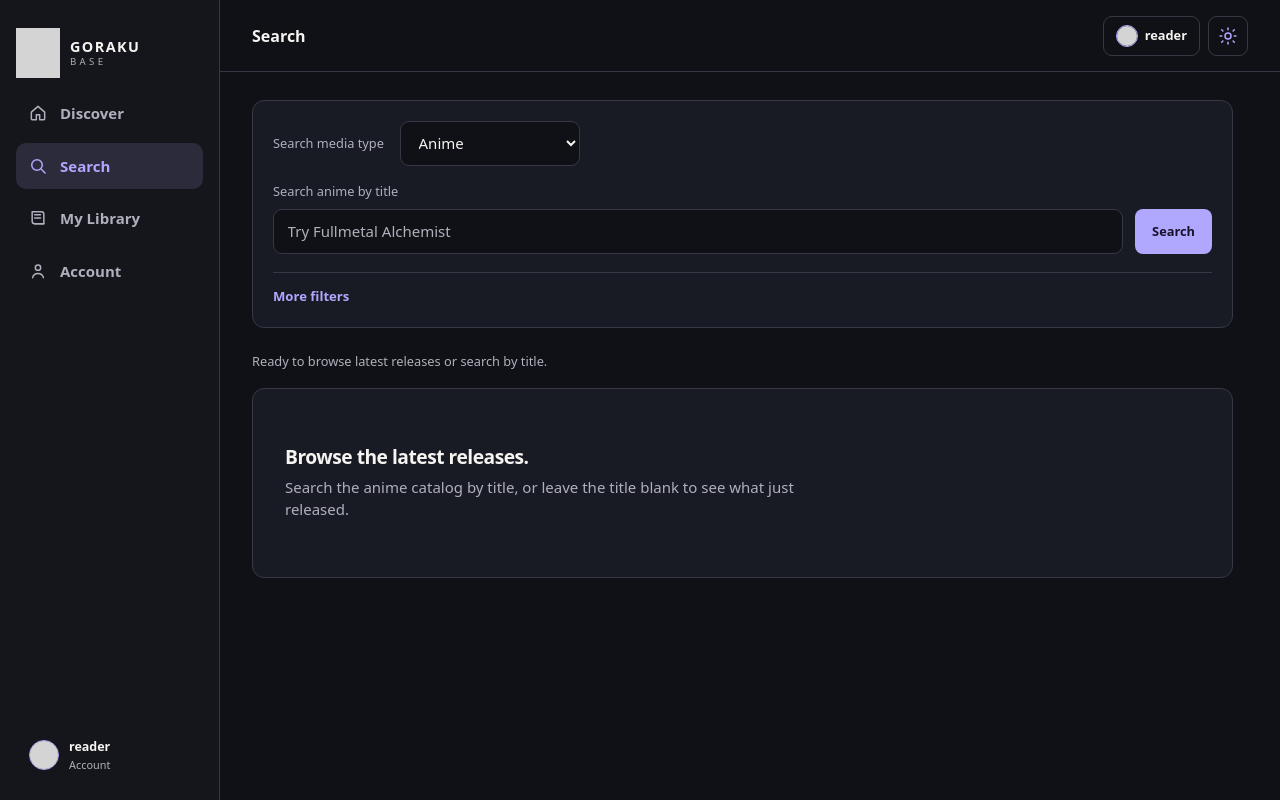
Test: authentication and library experience › offers existing Tags and Collections as direct save destinations
The width and height of the screenshot is (1280, 800).
Earlier steps of the test are not shown.
Step 1. Type "arrival" into the search field labelled "Search anime by title" → (698, 232), box [273,209,1123,254]
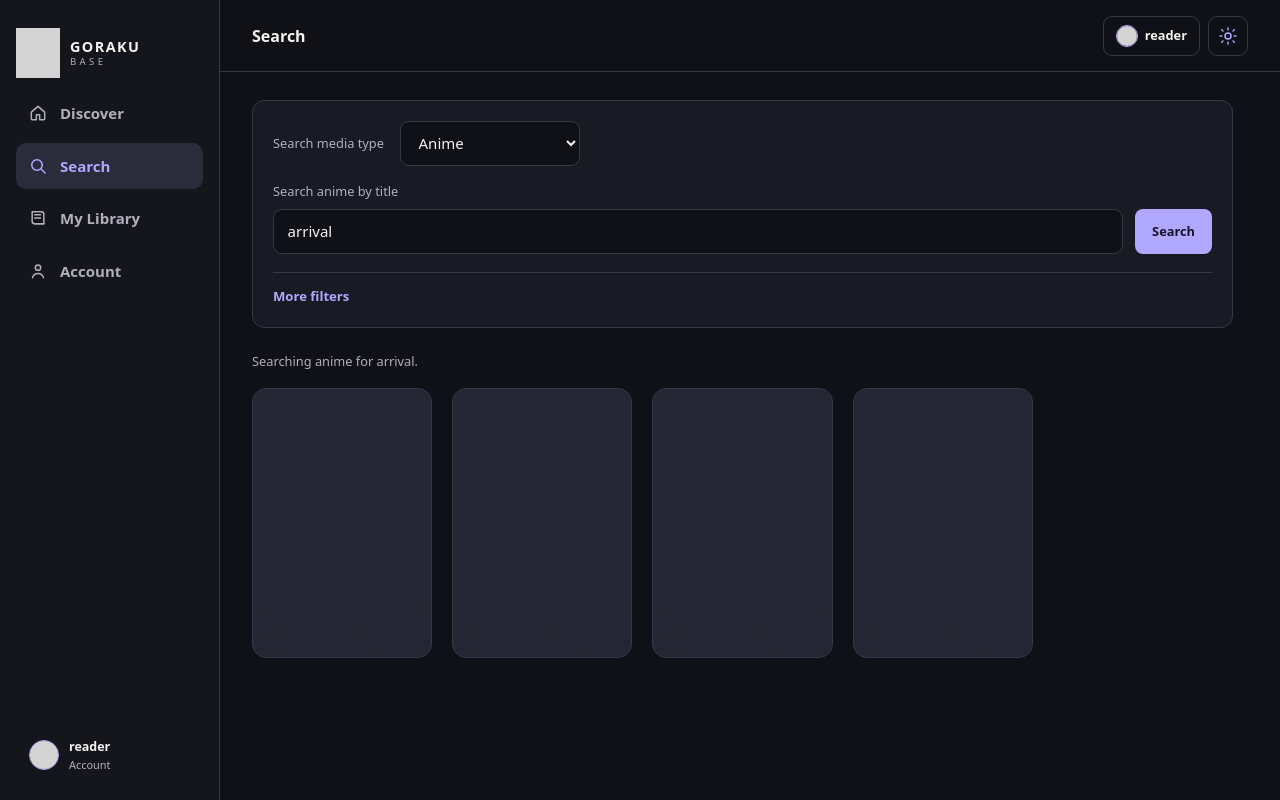
Step 2. Submit the form "Search anime by title", box [252,100,1233,328]
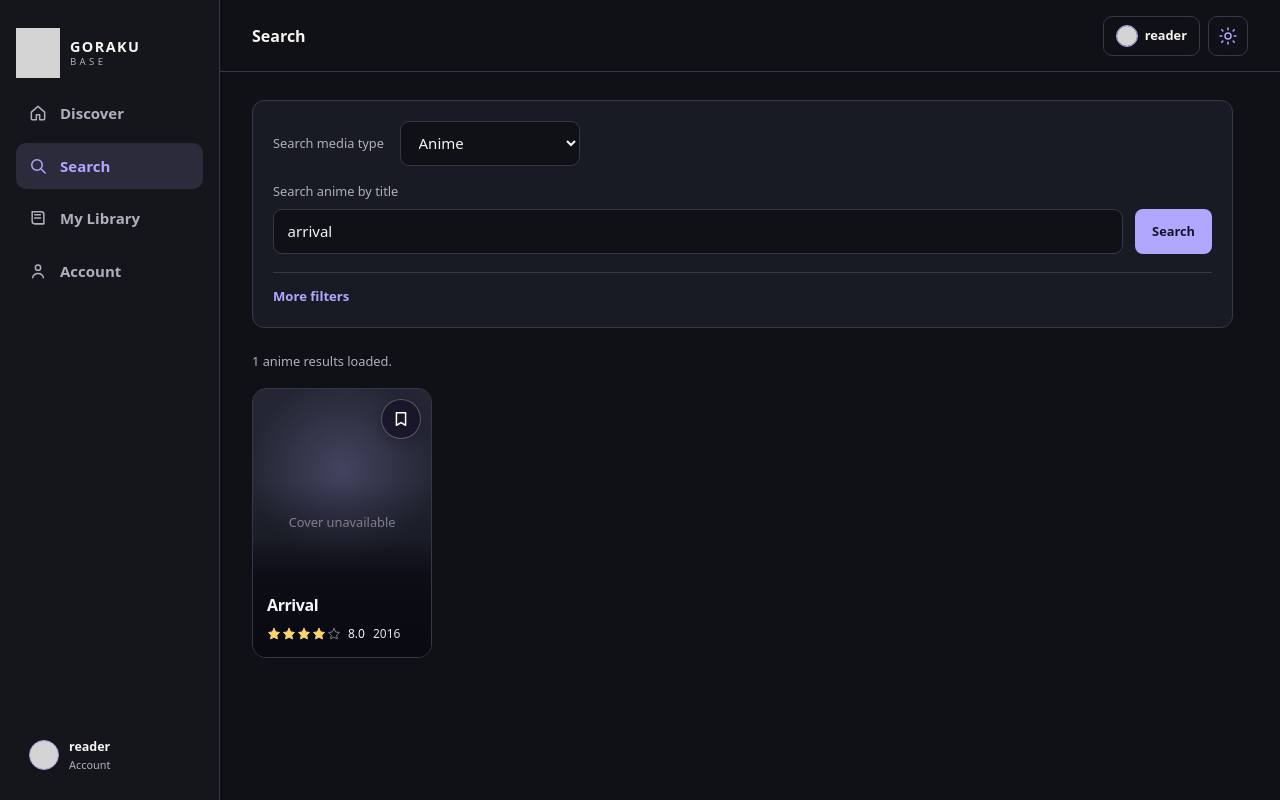
Result: the heading "Arrival" is shown at [267,594,318,616]
Step 3. Click the button named "Save to library" → (401, 419), box [381,399,421,439]
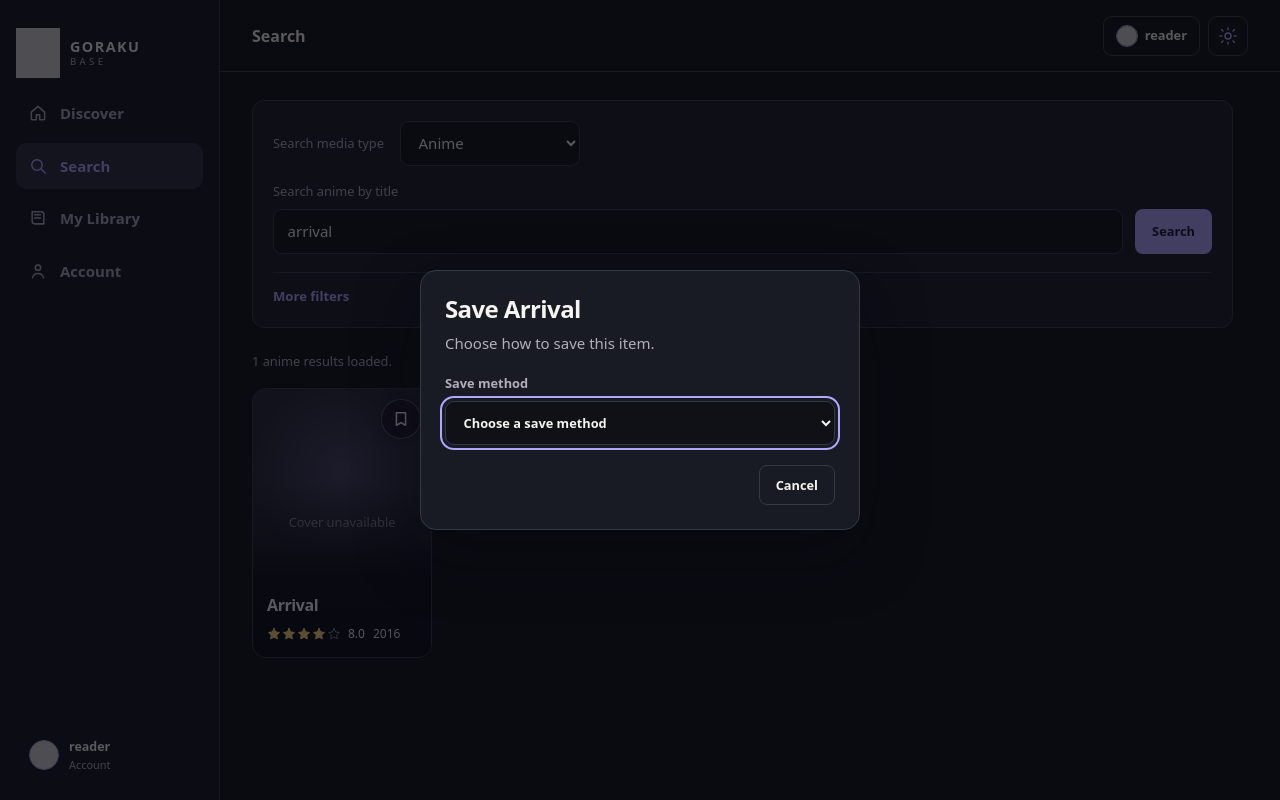
Step 4. Select "Save to Tags and Collection" in the dropdown labelled "Save method" → (640, 423), box [445,401,835,445]
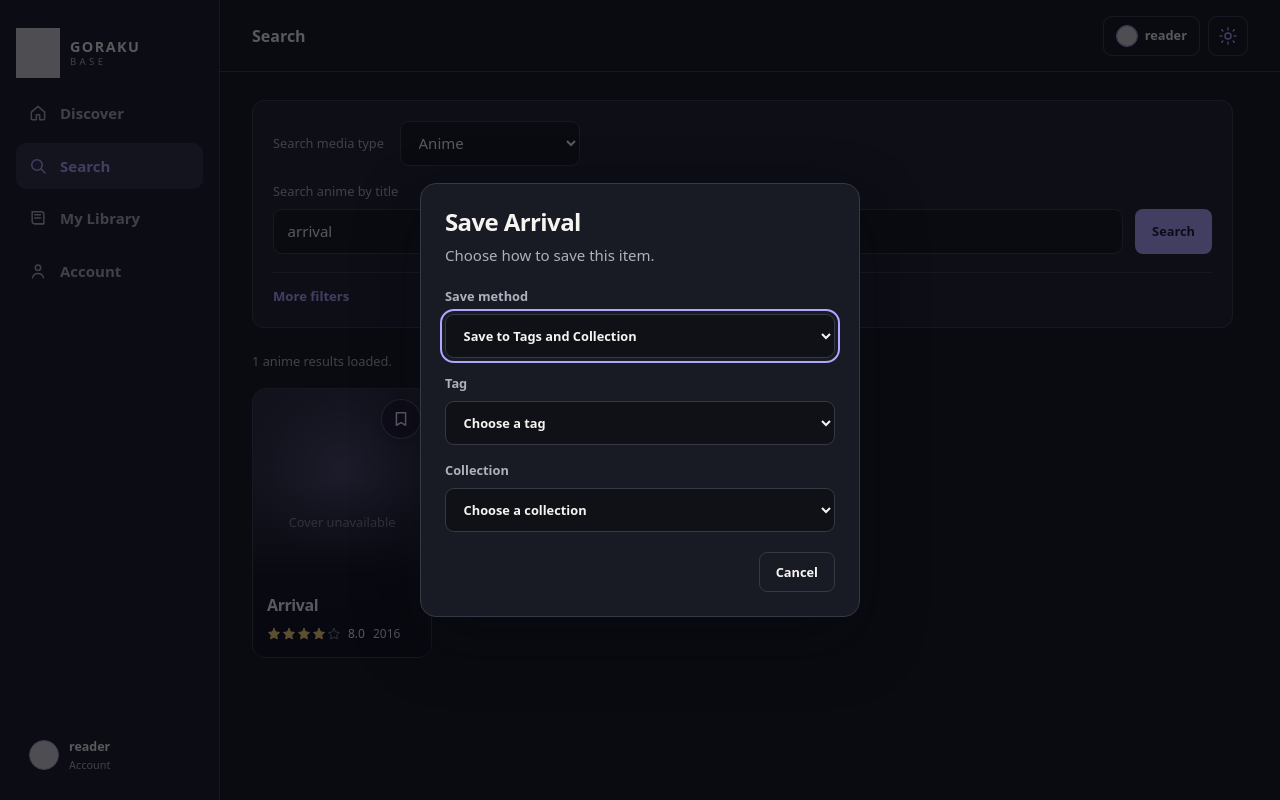
Step 5. Select "Favorites" in the dropdown labelled "Tag" → (640, 423), box [445,401,835,445]
Step 6. Select "Weekend queue" in the dropdown labelled "Collection" → (640, 510), box [445,488,835,532]
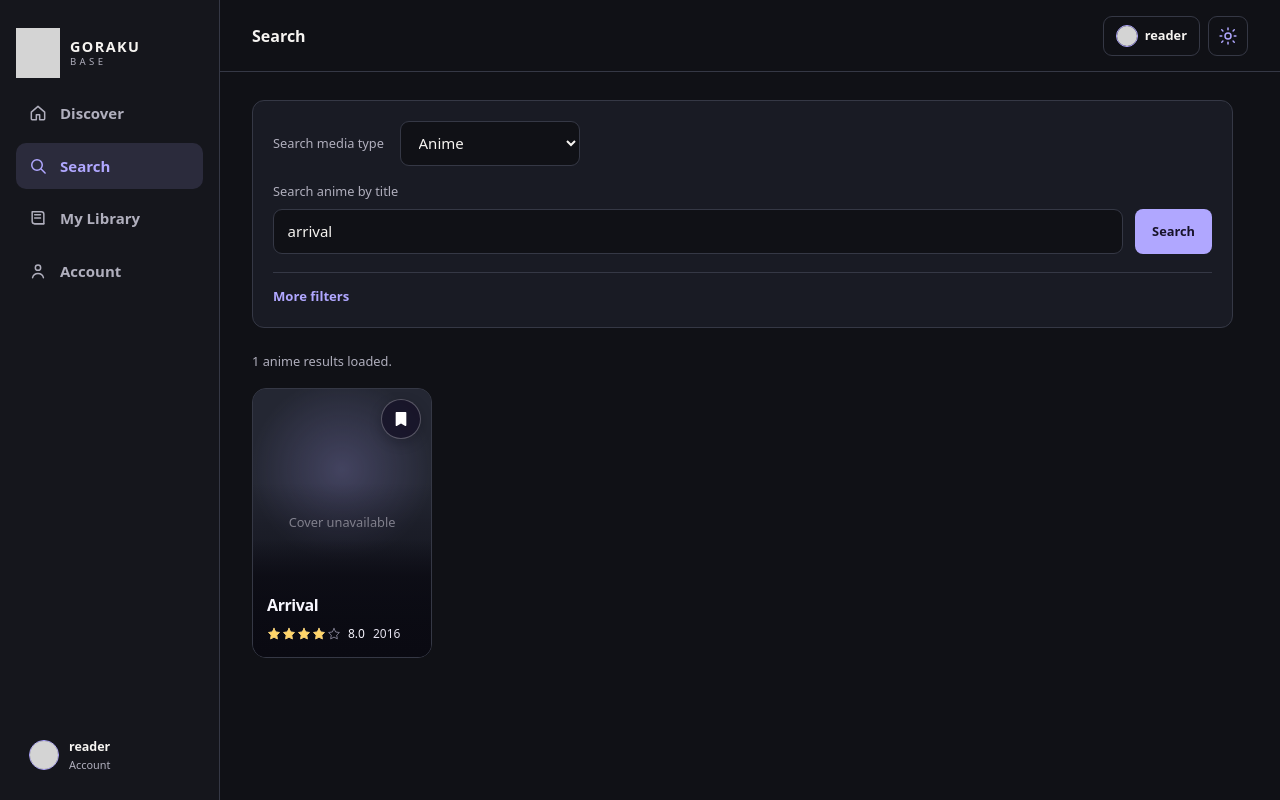
Result: the button named "Remove from library" is shown
Result: the heading "Save Arrival" is gone
Step 7. Click the button named "Remove from library" → (401, 419), box [381,399,421,439]
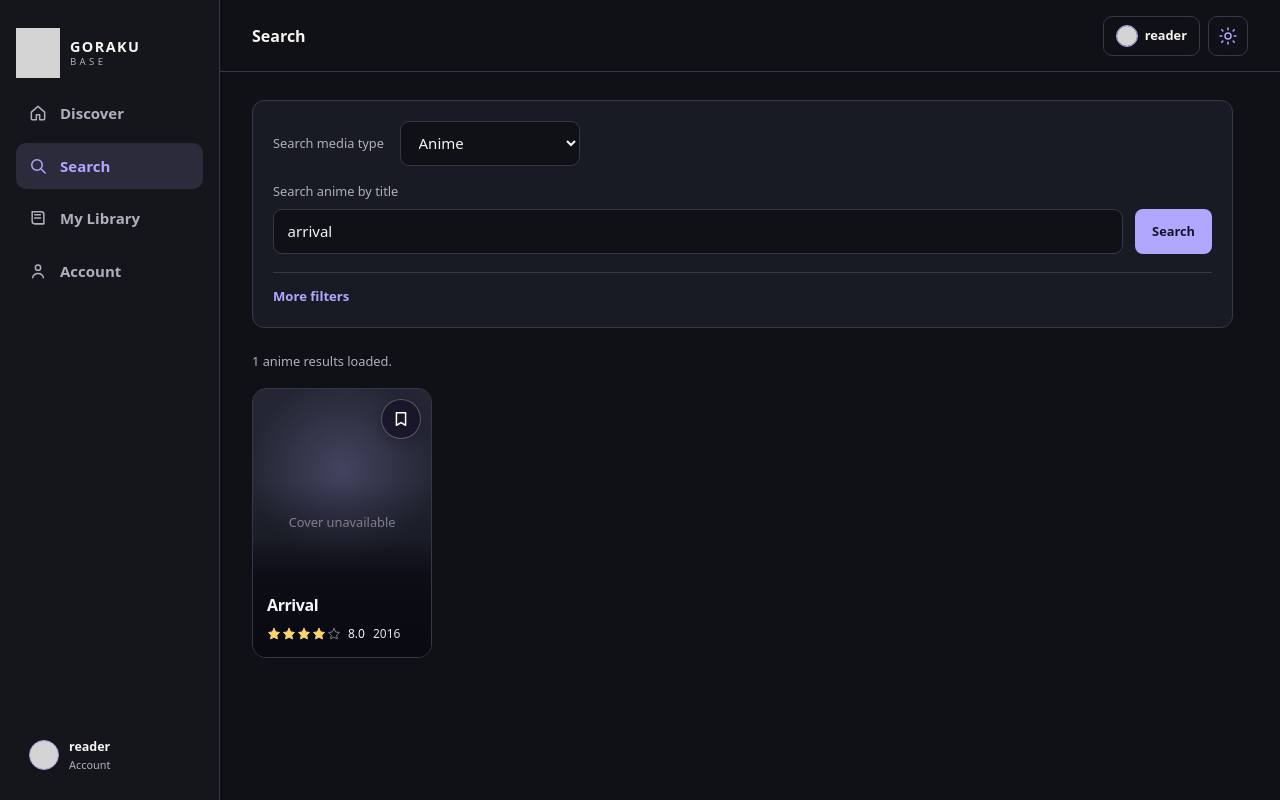
Result: the button named "Save to library" is shown at [381,399,421,439]
